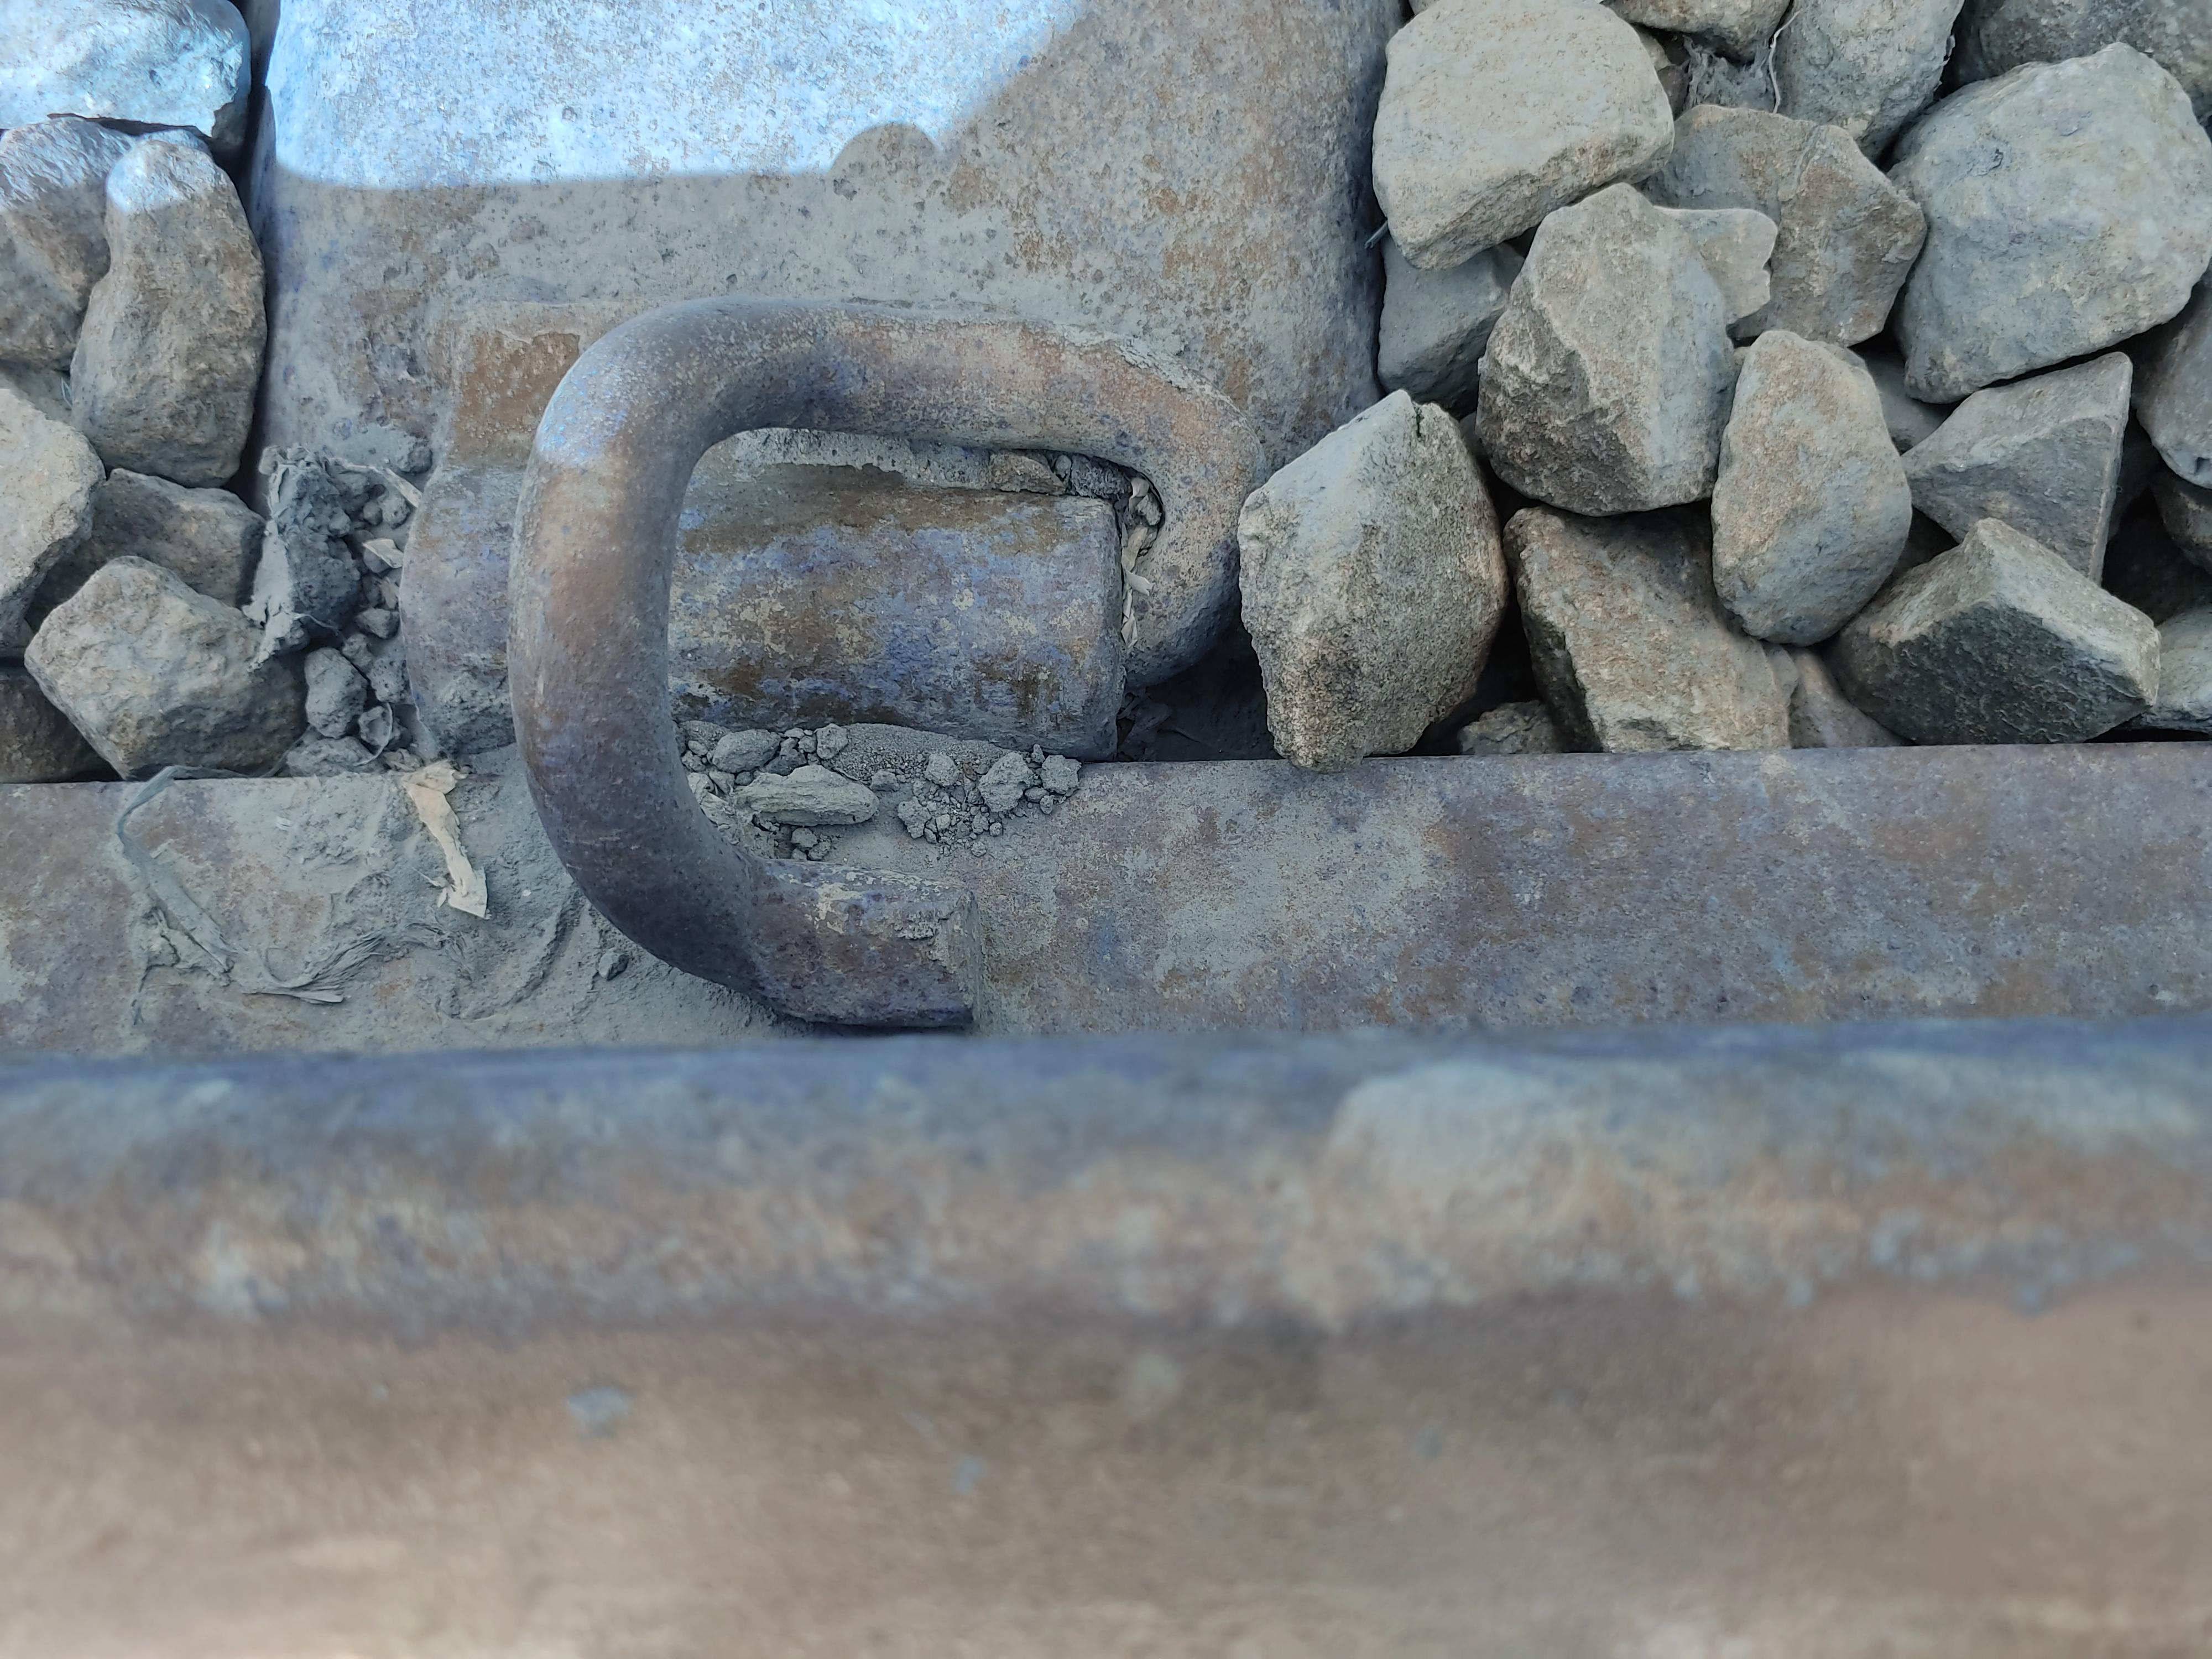error1: (521, 247, 1270, 1007)
